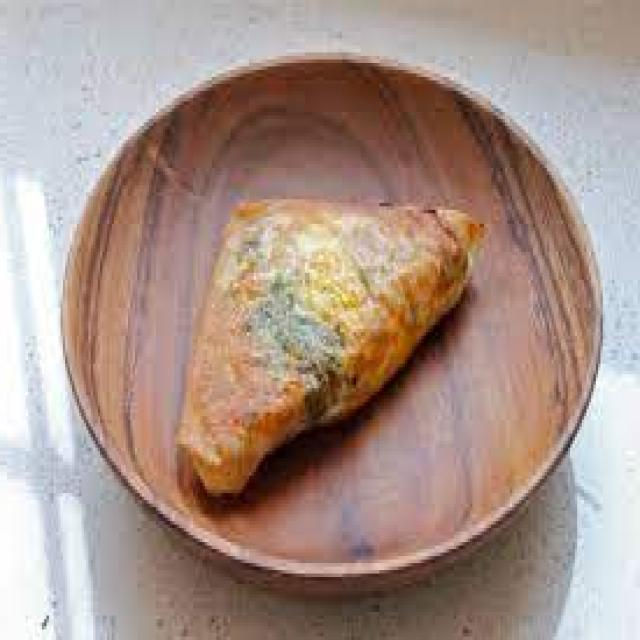brik: (166, 160, 489, 513)
